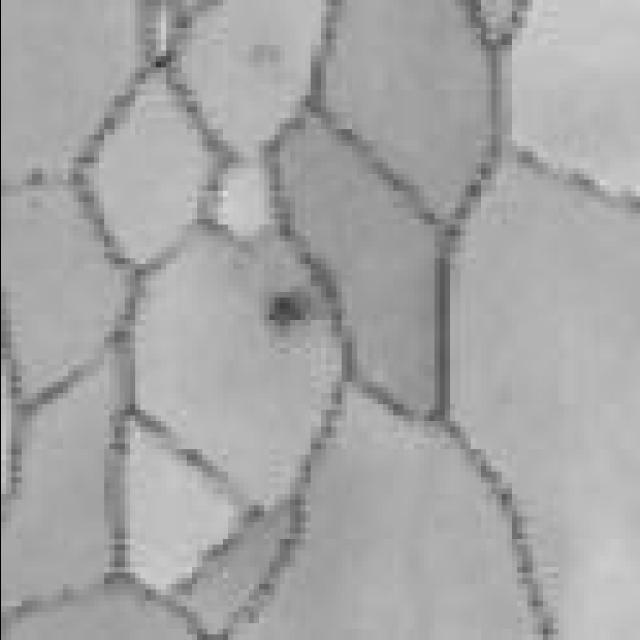good_void: (268, 292, 310, 320), (26, 168, 41, 180)
